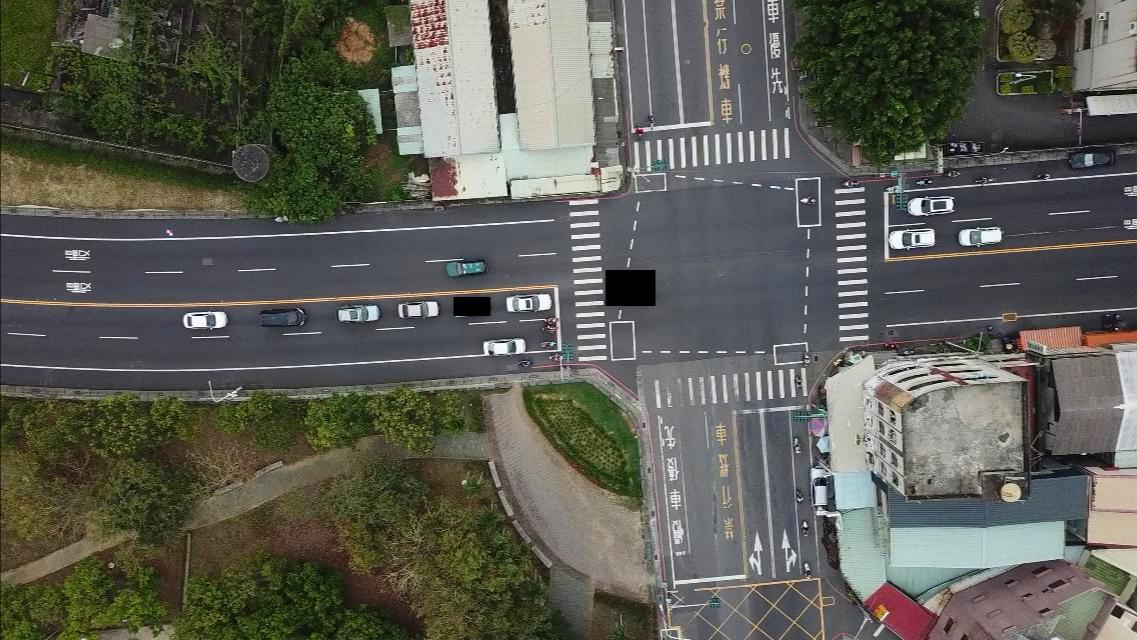vehicle: (1069, 147, 1118, 170), (888, 226, 934, 250), (906, 195, 958, 216), (504, 293, 552, 314), (259, 307, 307, 327), (957, 226, 1004, 246), (809, 465, 830, 509), (336, 303, 381, 323), (182, 310, 227, 330), (445, 257, 487, 278), (397, 299, 438, 319), (482, 339, 527, 356)
